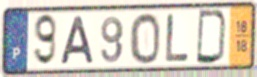9: (31, 13, 58, 69), (99, 15, 125, 64)
A: (59, 15, 96, 67)
D: (194, 8, 229, 66)
L: (164, 12, 191, 64)
O: (129, 11, 162, 66)
